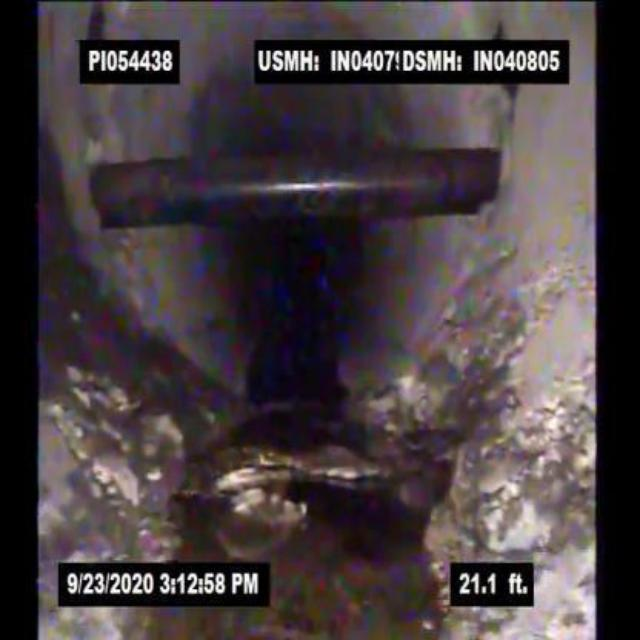Utility intrusion: (85, 142, 509, 237)
